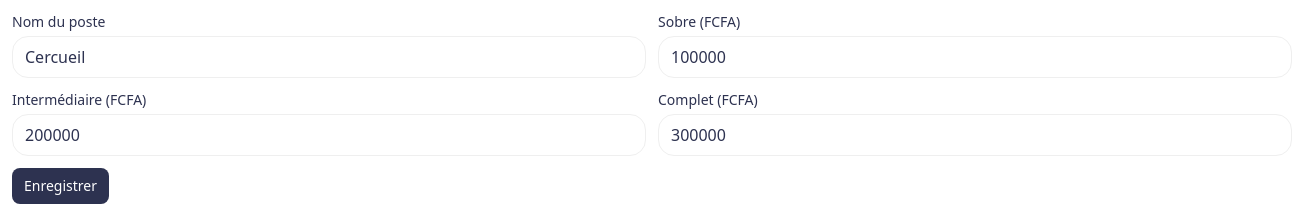
LineForm › says the edited line is saved
Click the button "Enregistrer" at x=60, y=186, box [12, 168, 109, 204]
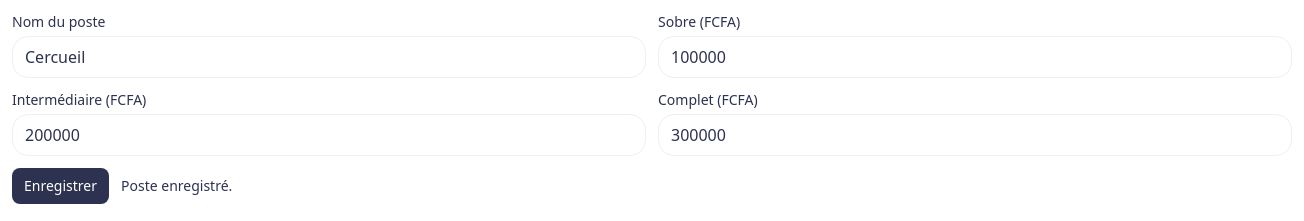
Check: the field labelled "Nom du poste" holds "Cercueil", box [12, 36, 646, 78]
Check: the message reads "Poste enregistré.", box [121, 176, 232, 195]
